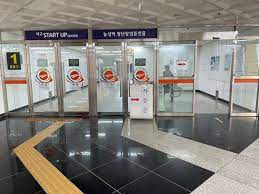guide_blocks: (15, 150, 80, 194), (16, 123, 65, 151), (27, 117, 82, 122)
